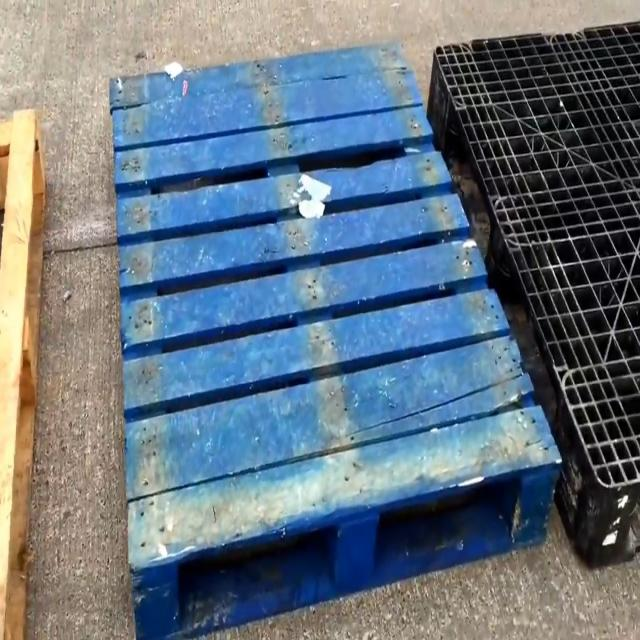Palette: (108, 37, 564, 640), (426, 9, 640, 569), (0, 102, 46, 640)
